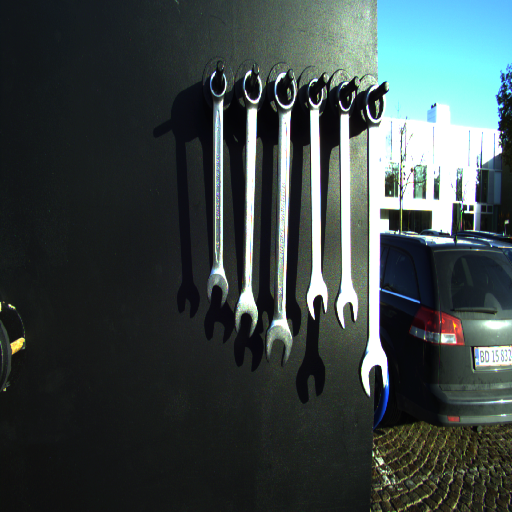bottom: (357, 345, 391, 398), (263, 322, 294, 368), (332, 286, 361, 330), (304, 278, 331, 322), (233, 296, 260, 336), (205, 271, 231, 307)
top: (364, 83, 387, 126), (273, 72, 298, 111), (241, 69, 264, 107), (206, 69, 230, 100), (334, 81, 356, 114), (306, 78, 325, 111)
